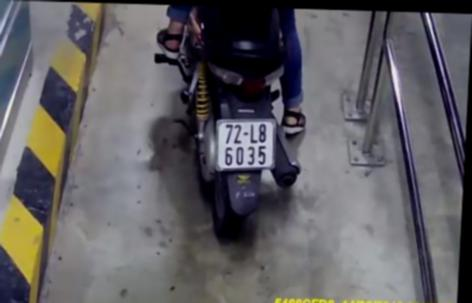License_Plate: (207, 114, 279, 179)
